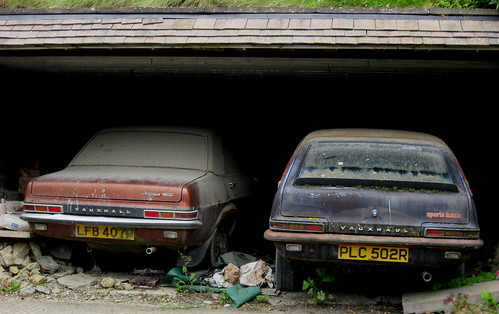car: (276, 116, 476, 293), (32, 114, 248, 266)
